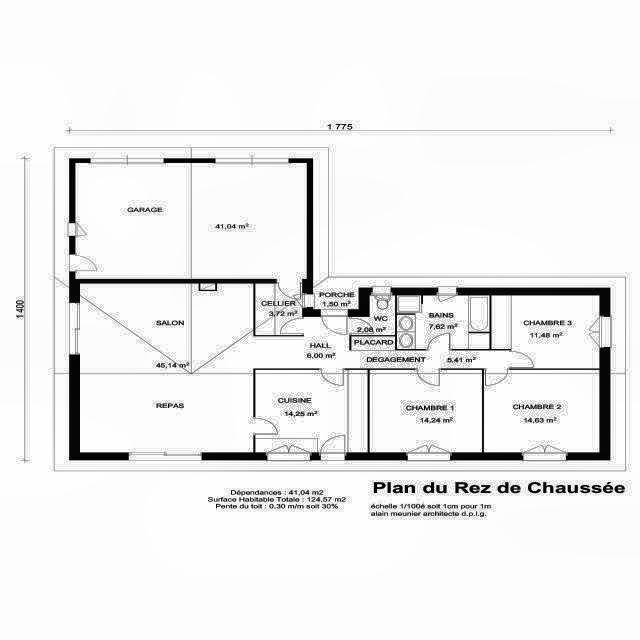room: (80, 283, 510, 452), (76, 163, 306, 279), (484, 370, 600, 452), (255, 370, 368, 452), (370, 370, 482, 452), (491, 295, 599, 368), (397, 295, 489, 349), (255, 284, 302, 335), (351, 295, 395, 335)
